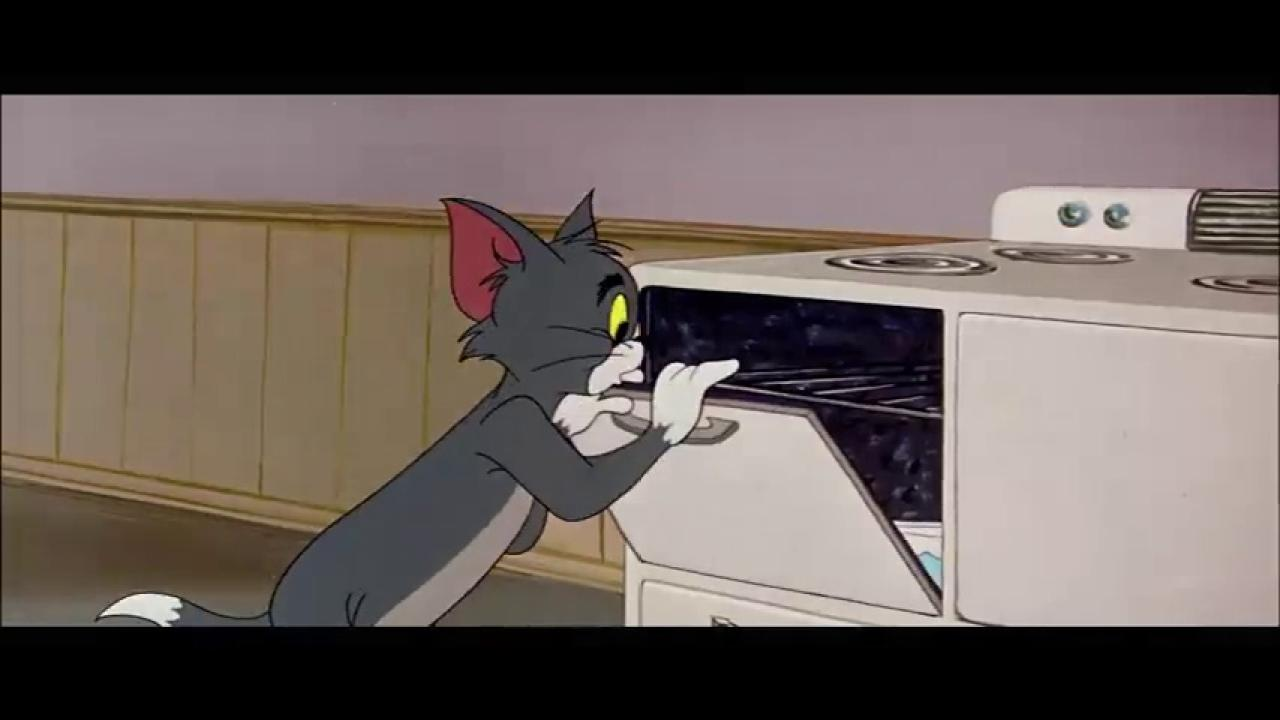Tom: (95, 185, 741, 630)
